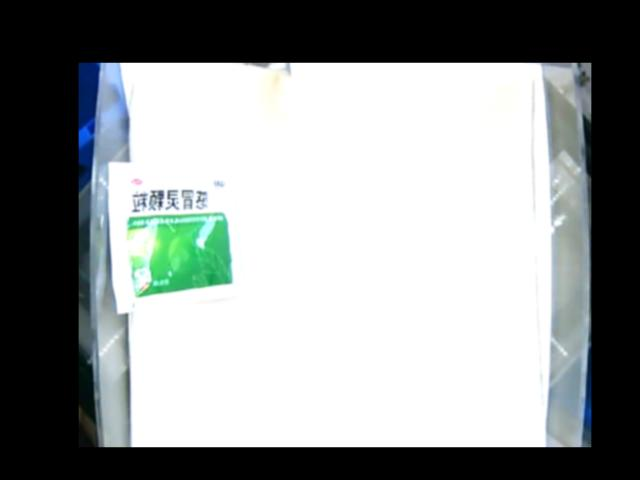Medicine: (105, 159, 248, 311)
